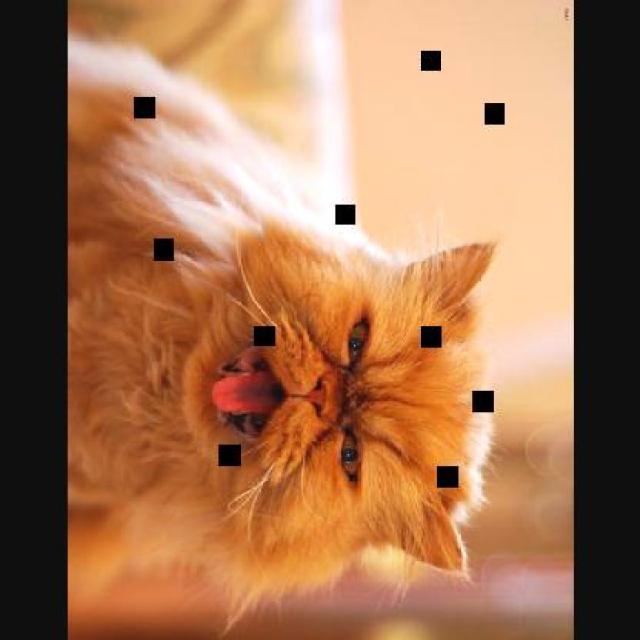unauthorized: (66, 27, 499, 638)
